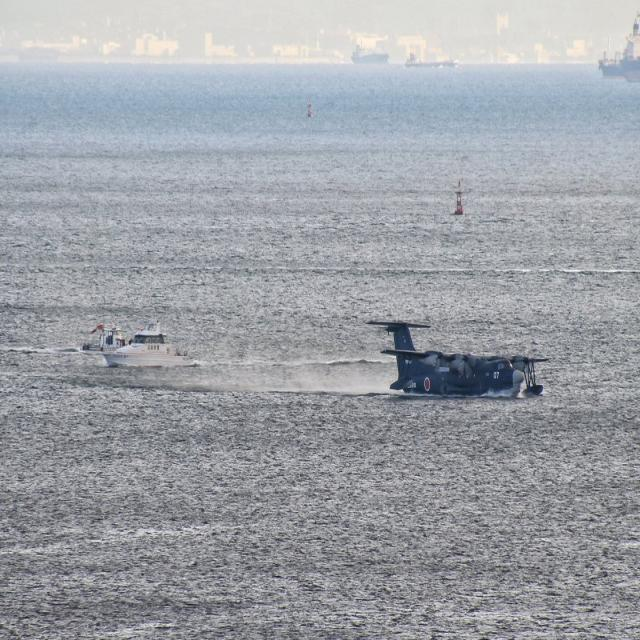MIL_Plane: (365, 318, 549, 398)
